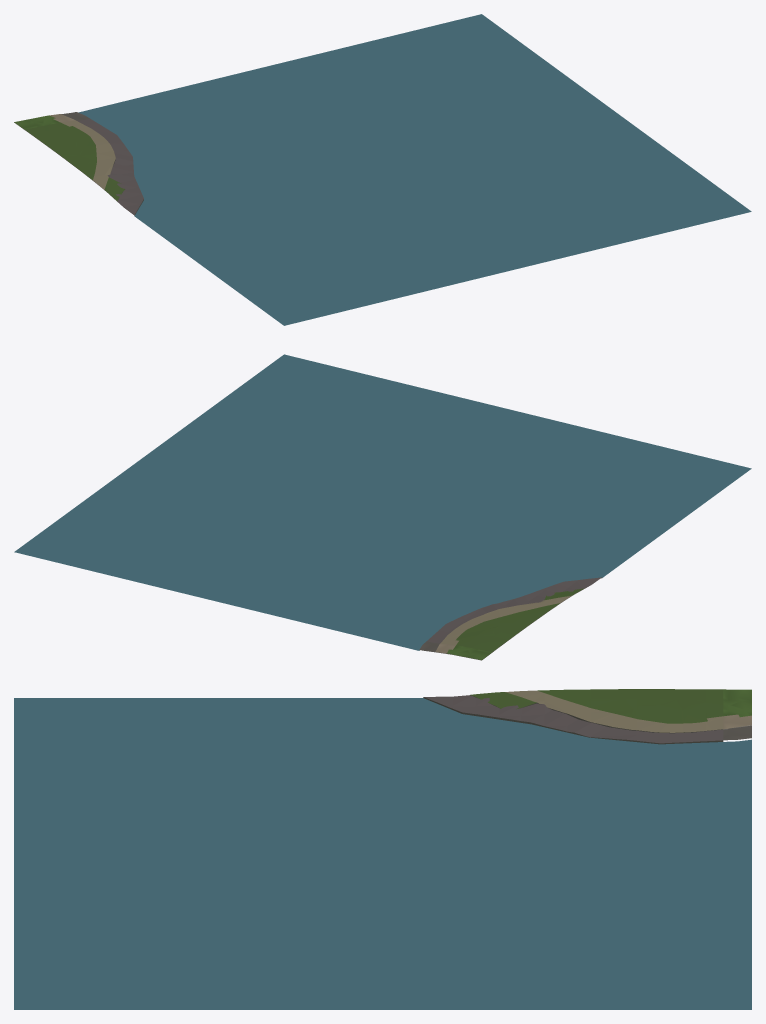
3 renders of one model, top to bottom at view 1: azimuth 30°, elevation 25°; view 2: azimuth 150°, elevation 25°; view 3: azimuth 270°, elevation 25°, orthographic. The views are drawn at different scales.
Visible parts, largest first — view 1: c_m09_m09; view 2: c_m09_m09; view 3: c_m09_m09.
Part boxes in pixels (x1,y1,x2,y2): c_m09_m09: (14, 14, 751, 325); c_m09_m09: (14, 354, 751, 660); c_m09_m09: (14, 689, 751, 1009).
Size of the model in its own units: 128 by 1.71 by 128.
